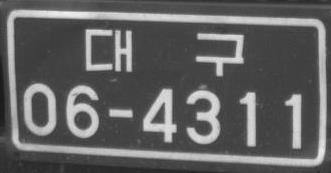0: (22, 82, 57, 135)
1: (278, 92, 313, 151), (233, 90, 267, 147)
3: (184, 88, 222, 144)
4: (142, 87, 177, 143)
6: (64, 83, 100, 139)
대구_D: (84, 27, 244, 76)
